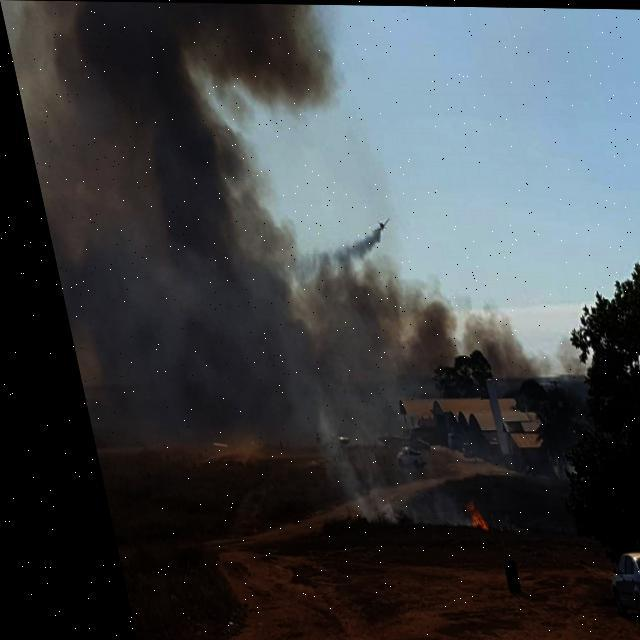Fire: (442, 494, 466, 532)
